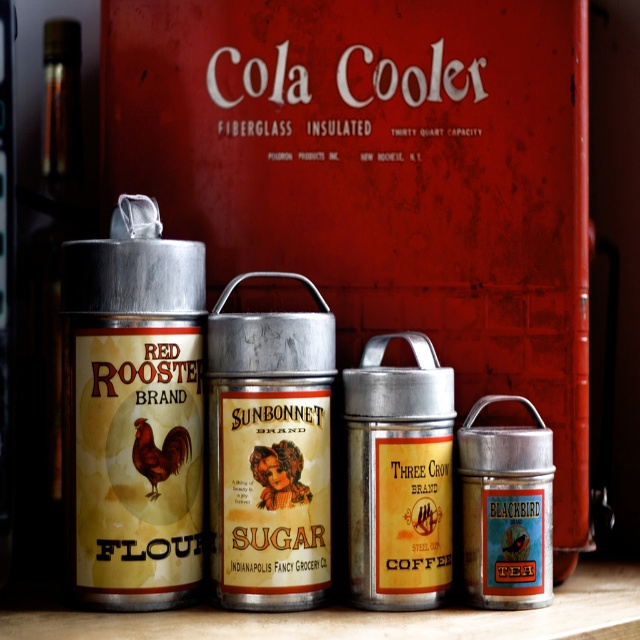Chicken: (135, 415, 190, 503)
